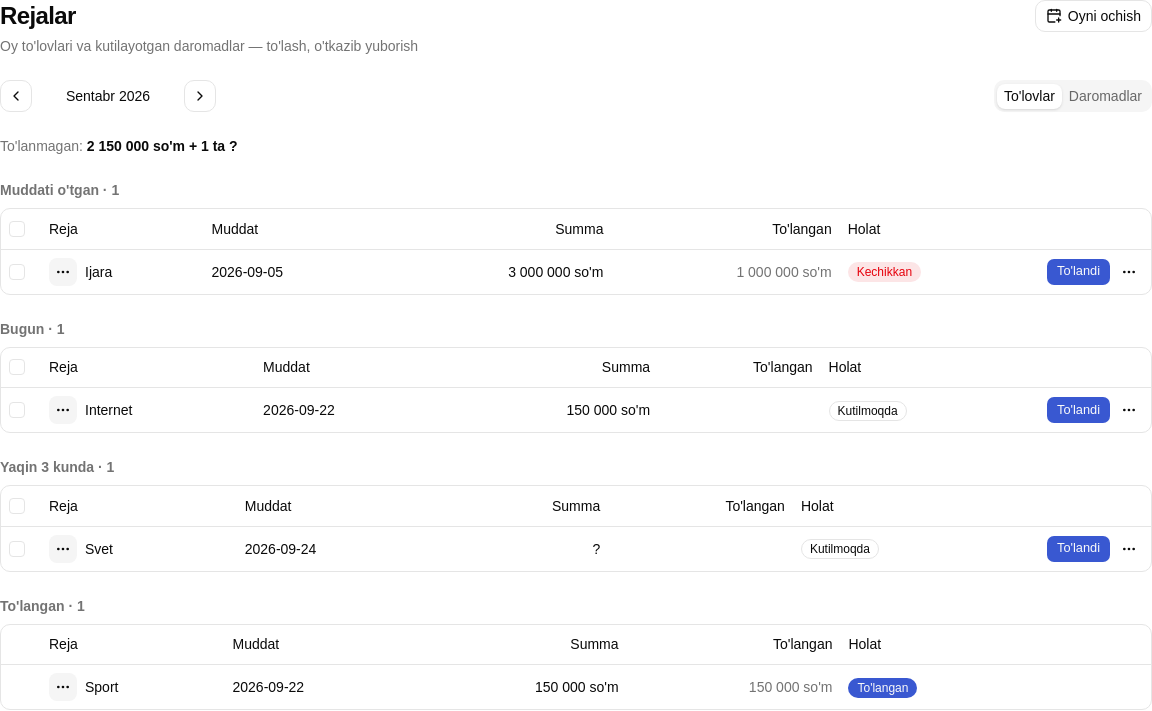
PlansPage (E23-T04) › ommaviy To‘landi (BR-074): to‘lanmaganlari sababi bilan va tanlangan qoladi
Click the checkbox named "Tanlash: Internet" at (17, 410), box [9,402,25,418]
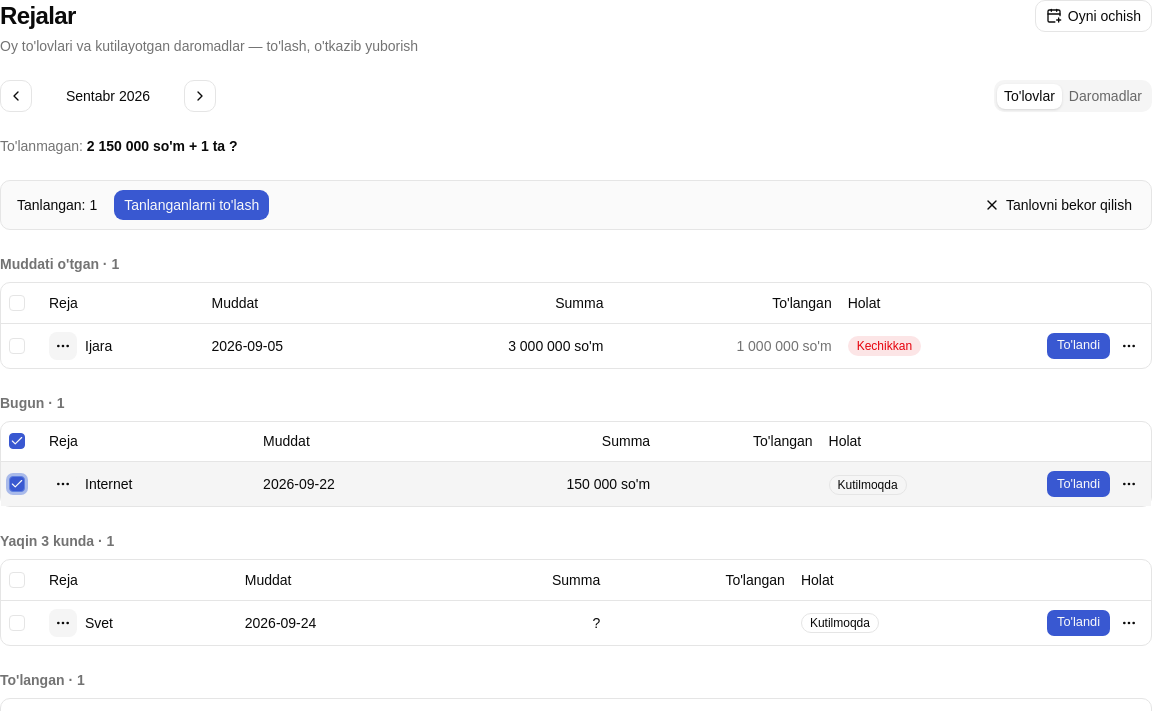
Click the checkbox named "Tanlash: Svet" at (17, 622), box [9,614,25,630]
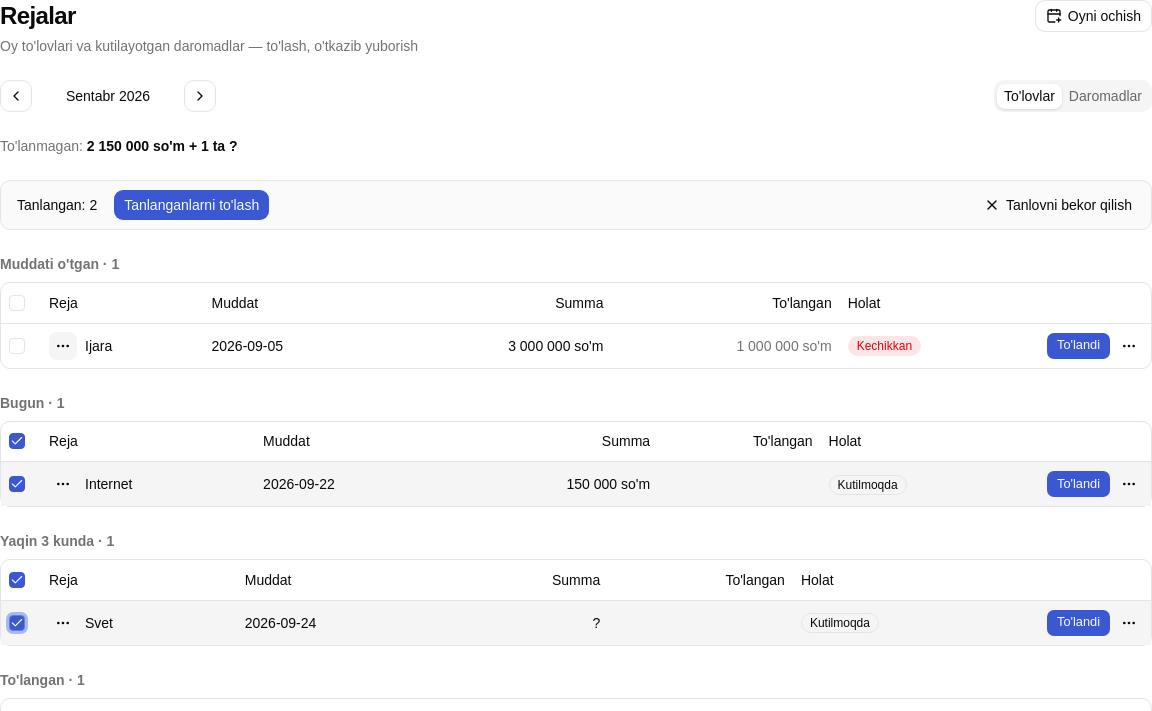
Click the button "Tanlanganlarni to'lash" at (192, 205), box [113,189,270,221]
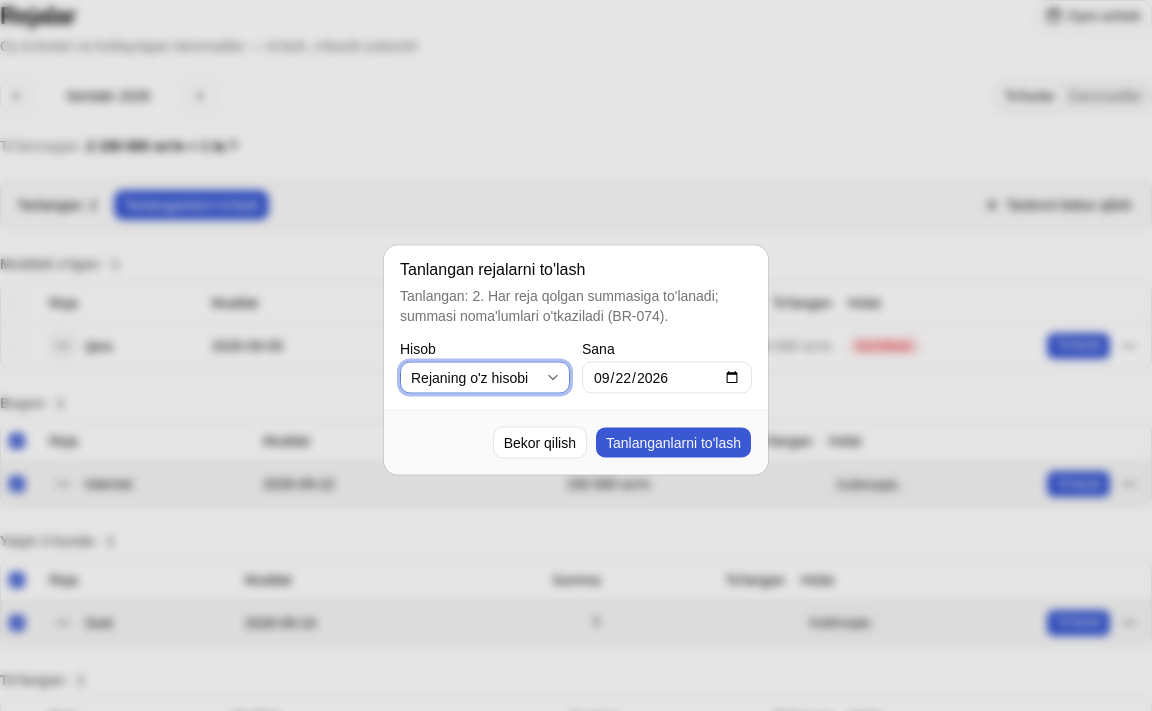
Click the button "Tanlanganlarni to'lash" at (674, 442), box [595,426,752,458]
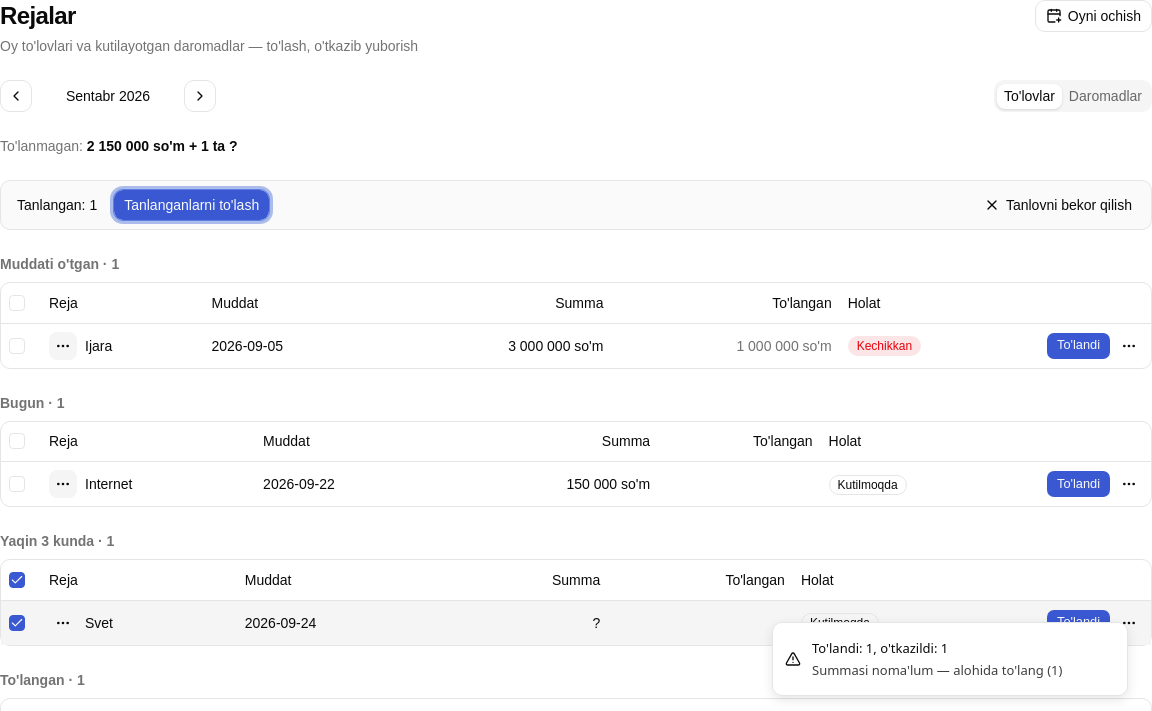
expect the text "To'landi: 1, o'tkazildi: 1" is shown: met, box [812,639,948,657]
expect the text "Summasi noma'lum — alohida to'lang (1)" is shown: met, box [812,661,1062,679]
expect the element "Tanlangan: 1" is shown: met, box [0,180,1151,230]
